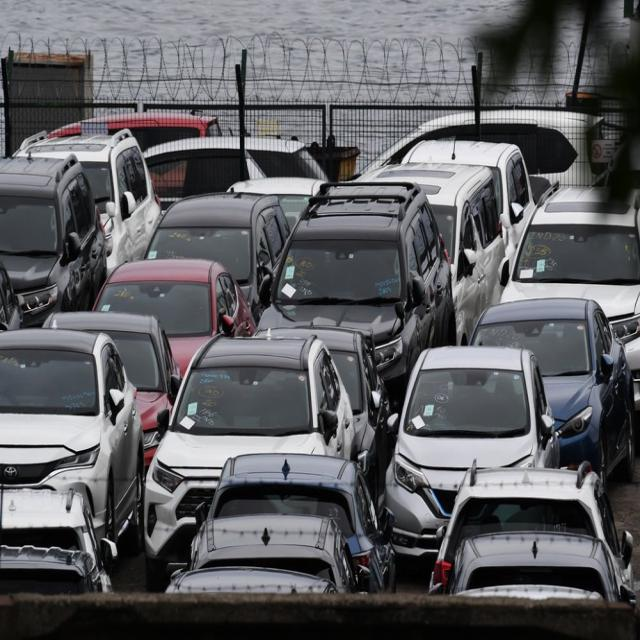car: (166, 334, 356, 576), (275, 170, 451, 409), (386, 349, 561, 559), (430, 452, 638, 620), (476, 287, 639, 471), (354, 150, 506, 325), (217, 454, 395, 583), (2, 146, 107, 340), (22, 125, 160, 267), (377, 100, 605, 184), (538, 175, 640, 362), (186, 516, 359, 622), (52, 307, 170, 457), (102, 255, 247, 372), (151, 200, 289, 307), (298, 318, 389, 478), (1, 479, 130, 591), (144, 129, 323, 204), (50, 114, 216, 153)
